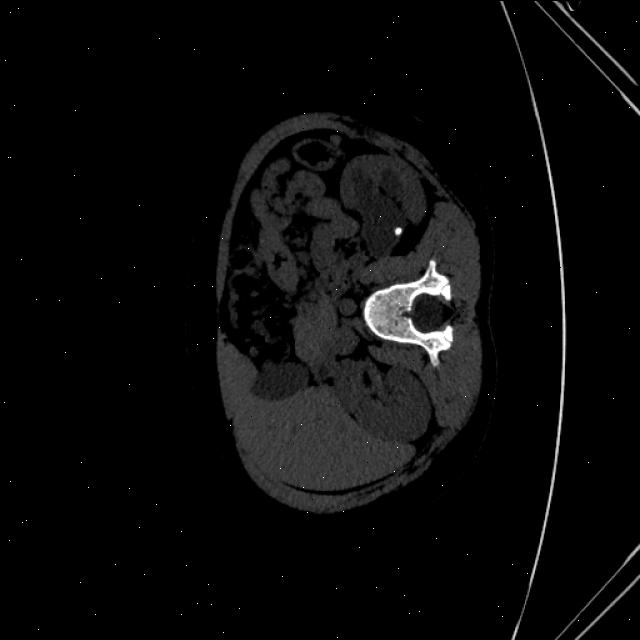kidneystone: (394, 226, 403, 235)
